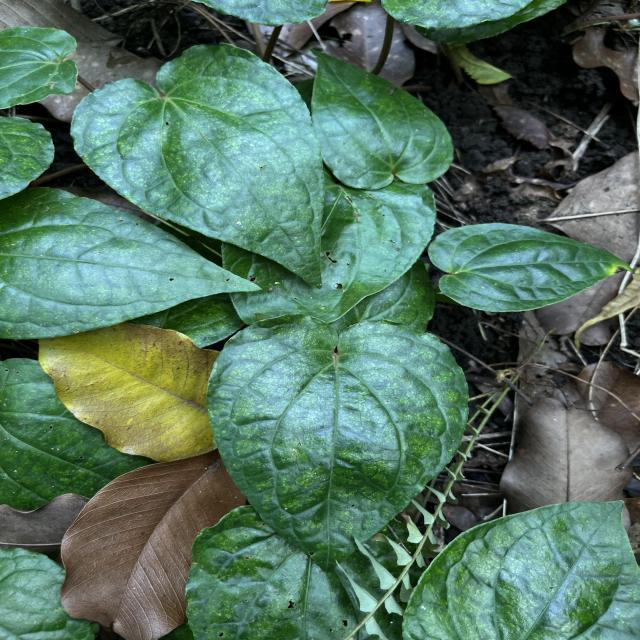Piper betle: (203, 310, 472, 578), (66, 39, 328, 290)
